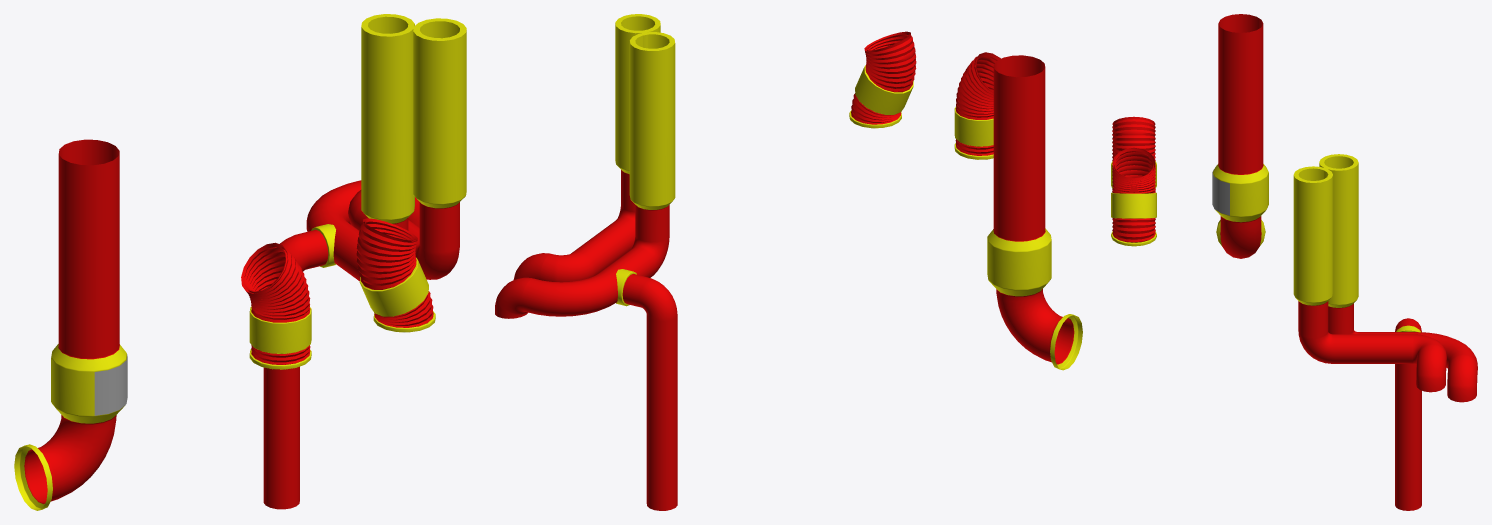
The model's file is piping_grp.fbx.
The picture shows the model from 3 angles, left to right: view 1: azimuth 30°, elevation 25°; view 2: azimuth 150°, elevation 25°; view 3: azimuth 270°, elevation 25°; orthographic projection. The views are drawn at different scales.
Parts seen in each view (by area): view 1: piping_right, piping_left, pipe_center_1, pipe_center_2; view 2: piping_right, piping_left, pipe_center_2, pipe_center_1; view 3: piping_right, piping_left, pipe_center_2, pipe_center_1.
Part boxes in pixels (box(x1,y1,x2,y2)): piping_right: box(263, 14, 466, 509); piping_left: box(14, 139, 127, 510); pipe_center_1: box(241, 242, 311, 369); pipe_center_2: box(356, 218, 435, 332); piping_right: box(495, 14, 677, 510); piping_left: box(987, 55, 1082, 370); pipe_center_2: box(849, 31, 916, 128); pipe_center_1: box(954, 52, 1000, 159); piping_right: box(1293, 154, 1477, 510); piping_left: box(1212, 14, 1268, 258); pipe_center_2: box(1111, 147, 1156, 246); pipe_center_1: box(1111, 116, 1156, 192).
Size of the model in its own units: 279 by 258 by 231.
